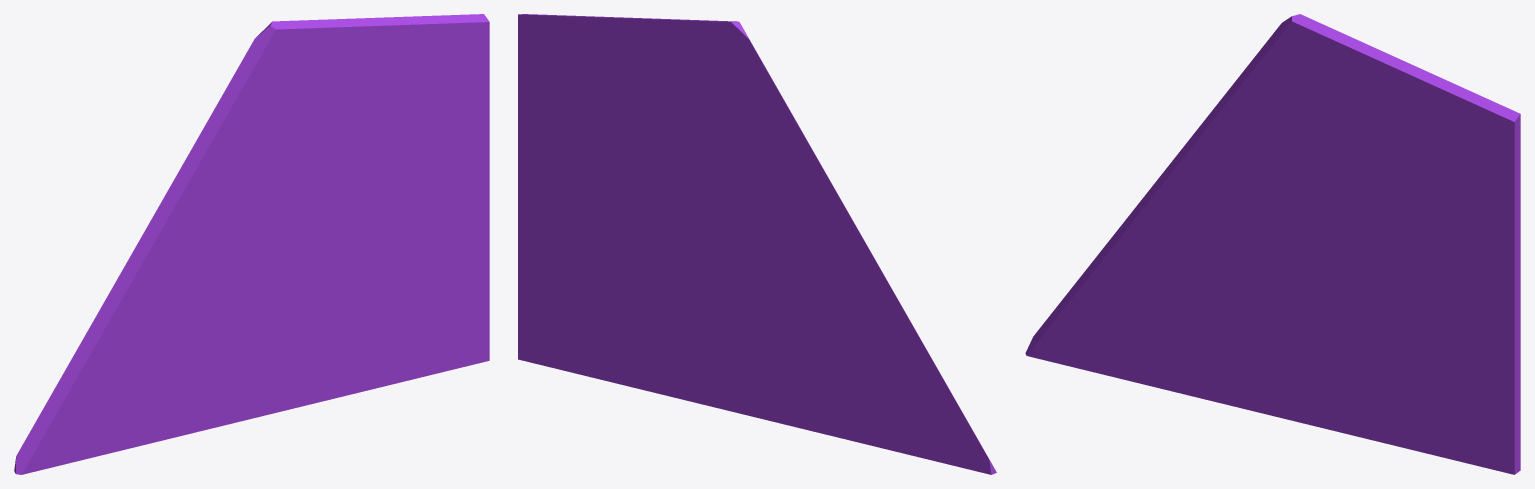
File: Glass_83_1_17_chunks.fbx
3 views of the same model, side by side, from view 1: azimuth 30°, elevation 25°; view 2: azimuth 150°, elevation 25°; view 3: azimuth 330°, elevation 25° (orthographic). The views are drawn at different scales.
Visible parts, largest first — view 1: Glass_83_1_17_6, Glass_83_1_17_10, Glass_83_1_17_5, Glass_83_1_17_0, Glass_83_1_17_3, Glass_83_1_17_1, Glass_83_1_17_13, Glass_83_1_17_14, Glass_83_1_17_8, Glass_83_1_17_11, Glass_83_1_17_16, Glass_83_1_17_7 (+6 smaller); view 2: Glass_83_1_17_6, Glass_83_1_17_10, Glass_83_1_17_5, Glass_83_1_17_1, Glass_83_1_17_13, Glass_83_1_17_7, Glass_83_1_17_3, Glass_83_1_17_0, Glass_83_1_17_14, Glass_83_1_17_8, Glass_83_1_17_11, Glass_83_1_17_12 (+5 smaller); view 3: Glass_83_1_17_6, Glass_83_1_17_10, Glass_83_1_17_5, Glass_83_1_17_0, Glass_83_1_17_1, Glass_83_1_17_13, Glass_83_1_17_3, Glass_83_1_17_8, Glass_83_1_17_14, Glass_83_1_17_11, Glass_83_1_17_16, Glass_83_1_17_7 (+6 smaller).
Boxes of the visible parts, bbox=[...] form: Glass_83_1_17_6: bbox=[370, 218, 489, 381]; Glass_83_1_17_10: bbox=[366, 14, 489, 164]; Glass_83_1_17_5: bbox=[250, 297, 402, 417]; Glass_83_1_17_0: bbox=[14, 346, 155, 474]; Glass_83_1_17_3: bbox=[79, 230, 236, 355]; Glass_83_1_17_1: bbox=[149, 302, 255, 442]; Glass_83_1_17_13: bbox=[279, 16, 426, 131]; Glass_83_1_17_14: bbox=[145, 118, 262, 245]; Glass_83_1_17_8: bbox=[238, 88, 378, 266]; Glass_83_1_17_11: bbox=[209, 20, 319, 138]; Glass_83_1_17_16: bbox=[276, 189, 446, 260]; Glass_83_1_17_7: bbox=[247, 240, 377, 316]; Glass_83_1_17_6: bbox=[518, 184, 665, 381]; Glass_83_1_17_10: bbox=[518, 14, 637, 161]; Glass_83_1_17_5: bbox=[609, 295, 766, 418]; Glass_83_1_17_1: bbox=[761, 276, 867, 442]; Glass_83_1_17_13: bbox=[575, 16, 742, 141]; Glass_83_1_17_7: bbox=[615, 203, 769, 315]; Glass_83_1_17_3: bbox=[769, 231, 925, 358]; Glass_83_1_17_0: bbox=[860, 347, 996, 474]; Glass_83_1_17_14: bbox=[738, 119, 858, 247]; Glass_83_1_17_8: bbox=[629, 94, 748, 230]; Glass_83_1_17_11: bbox=[696, 20, 796, 127]; Glass_83_1_17_12: bbox=[677, 137, 759, 238]; Glass_83_1_17_6: bbox=[1390, 290, 1520, 474]; Glass_83_1_17_10: bbox=[1386, 87, 1520, 270]; Glass_83_1_17_5: bbox=[1264, 307, 1424, 452]; Glass_83_1_17_0: bbox=[1025, 254, 1165, 389]; Glass_83_1_17_1: bbox=[1159, 291, 1269, 415]; Glass_83_1_17_13: bbox=[1294, 29, 1461, 155]; Glass_83_1_17_3: bbox=[1098, 167, 1250, 291]; Glass_83_1_17_8: bbox=[1252, 128, 1398, 262]; Glass_83_1_17_14: bbox=[1168, 83, 1277, 226]; Glass_83_1_17_11: bbox=[1231, 14, 1337, 128]; Glass_83_1_17_16: bbox=[1292, 229, 1469, 313]; Glass_83_1_17_7: bbox=[1262, 254, 1397, 332].
Bounding box in the file's own units: 1277 × 1000 × 27.2.
